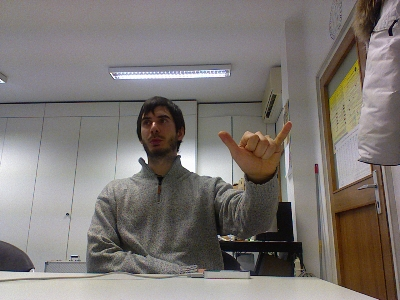六六六: (216, 121, 292, 180)
